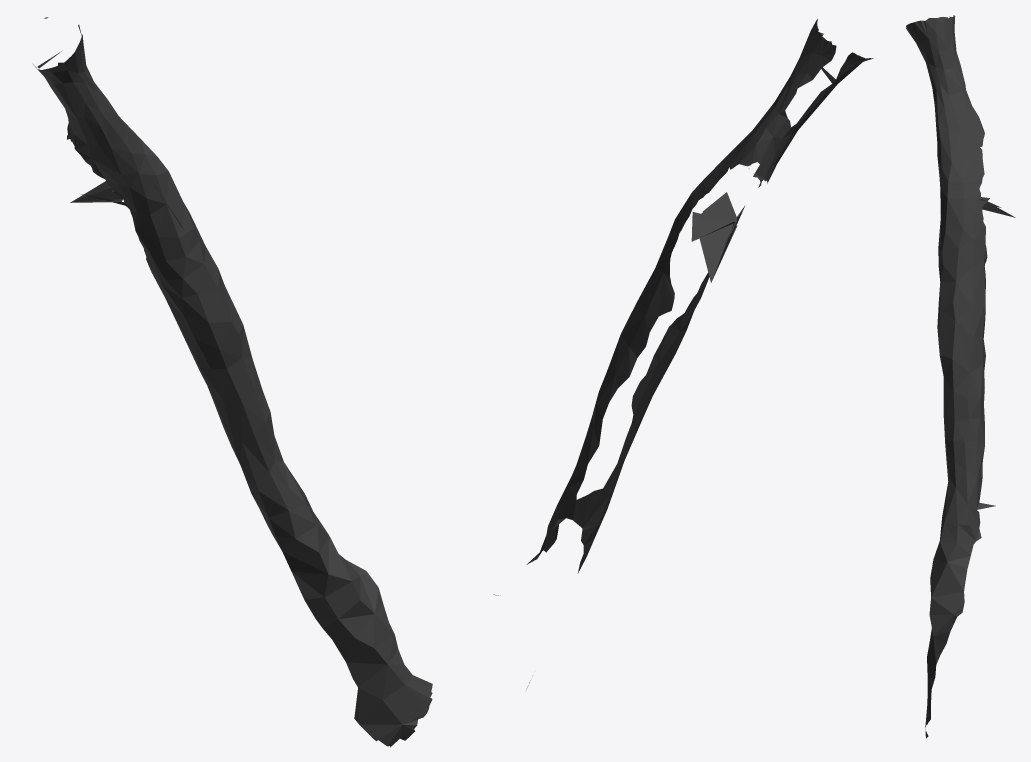
File: A_brachial_A_brachial.glb
The picture shows the model from 3 angles, left to right: view 1: azimuth 30°, elevation 25°; view 2: azimuth 150°, elevation 25°; view 3: azimuth 270°, elevation 25°; orthographic projection. The views are drawn at different scales.
Visible parts, largest first — view 1: A_brachial_A_brachial; view 2: A_brachial_A_brachial; view 3: A_brachial_A_brachial.
Part boxes in pixels (left/top/right/bottom): A_brachial_A_brachial: left=33, top=17, right=432, bottom=747; A_brachial_A_brachial: left=493, top=19, right=873, bottom=689; A_brachial_A_brachial: left=906, top=15, right=1015, bottom=738.
Size of the model in its own units: 0.0179 by 0.0337 by 0.00555.
1 material, 1 textured.
